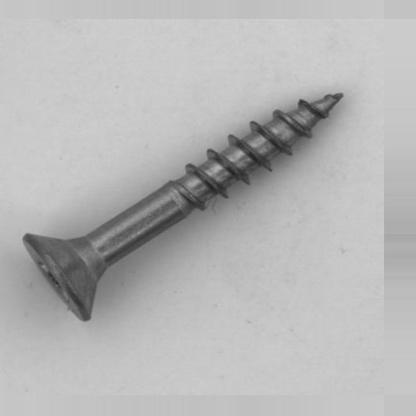metal: (21, 91, 344, 321)
